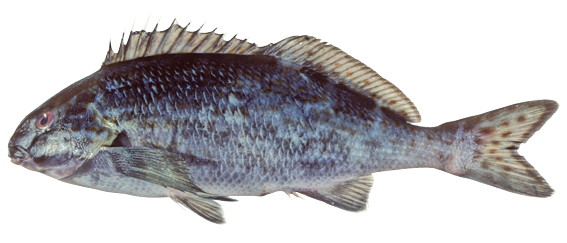fish: (8, 17, 558, 225)
